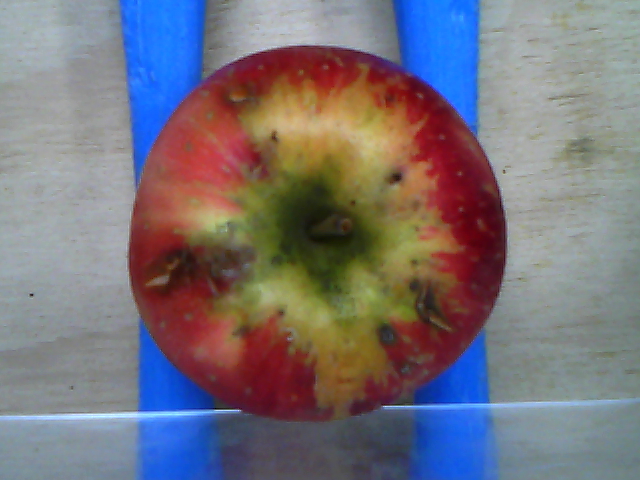cut: (413, 289, 454, 330), (145, 255, 183, 290)
